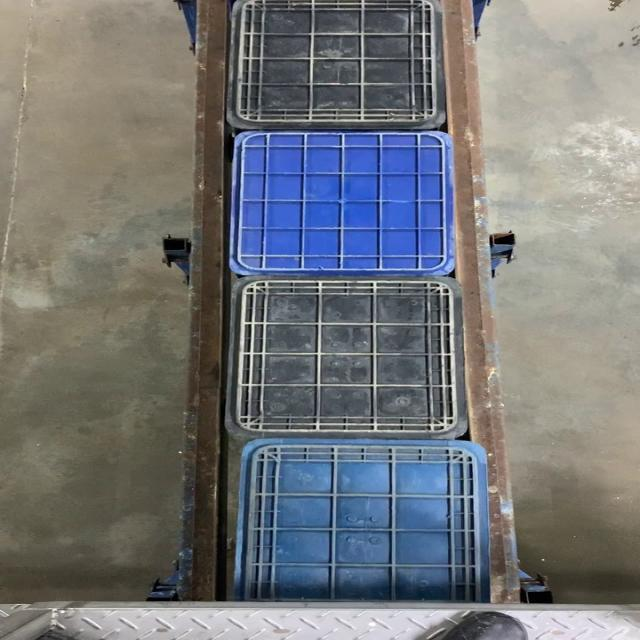Box: (223, 275, 469, 437), (226, 128, 456, 275), (224, 0, 447, 128)
